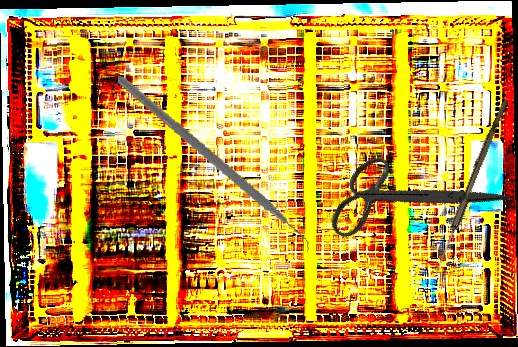Chopper: (94, 76, 331, 262)
Iris Scissors: (312, 106, 511, 290)
Surgical Spoon: (432, 97, 509, 276)
